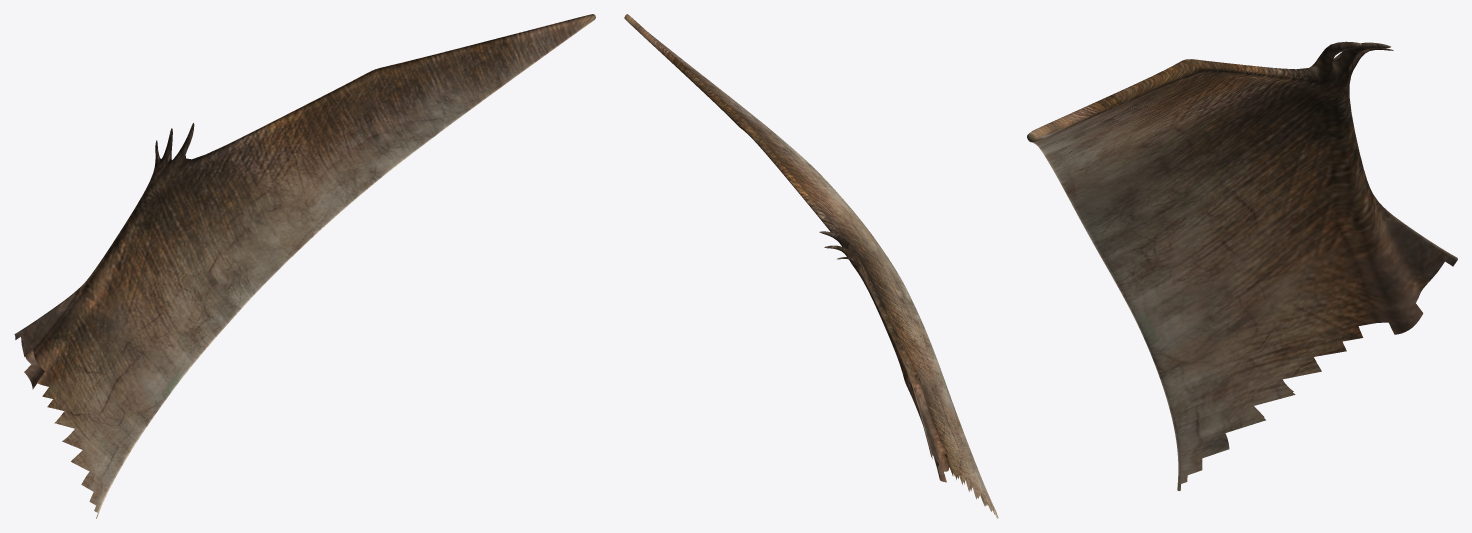
Rendered from QuetzalAla2.obj.
3 views of the same model, side by side, from view 1: azimuth 30°, elevation 25°; view 2: azimuth 150°, elevation 25°; view 3: azimuth 270°, elevation 25° (orthographic). The views are drawn at different scales.
Parts seen in each view (by area): view 1: 13623_Quetzalcoatlus; view 2: 13623_Quetzalcoatlus; view 3: 13623_Quetzalcoatlus.
Part boxes in pixels (x1,y1,x2,y2): 13623_Quetzalcoatlus: (14, 14, 595, 518); 13623_Quetzalcoatlus: (624, 14, 998, 518); 13623_Quetzalcoatlus: (1027, 41, 1457, 490).
Size of the model in its own units: 167 by 146 by 75.47.
1 material, 1 textured.
